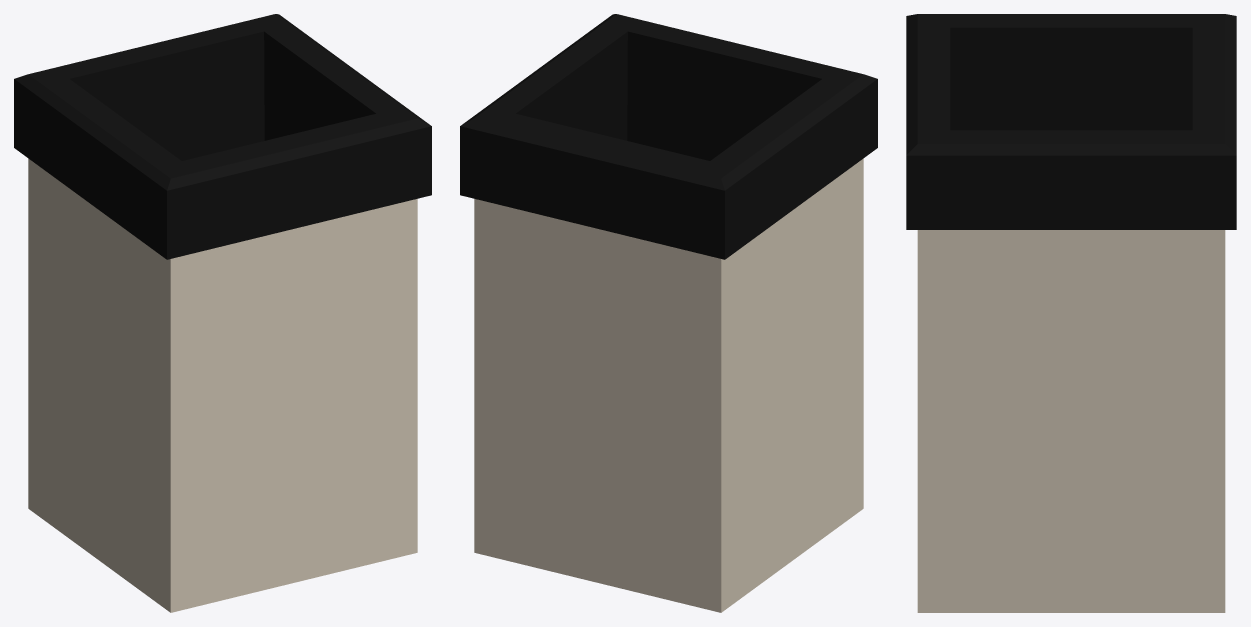
Rendered from trashCan.glb.
The picture shows the model from 3 angles, left to right: view 1: azimuth 30°, elevation 25°; view 2: azimuth 150°, elevation 25°; view 3: azimuth 270°, elevation 25°; orthographic projection. The views are drawn at different scales.
Visible parts, largest first — view 1: Trashcan; view 2: Trashcan; view 3: Trashcan.
Boxes of the visible parts, x1,y1,x2,y2 form: Trashcan: (14, 14, 431, 612); Trashcan: (460, 14, 877, 612); Trashcan: (906, 14, 1236, 612).
Size of the model in its own units: 0.6867 by 1.08 by 0.6867.
